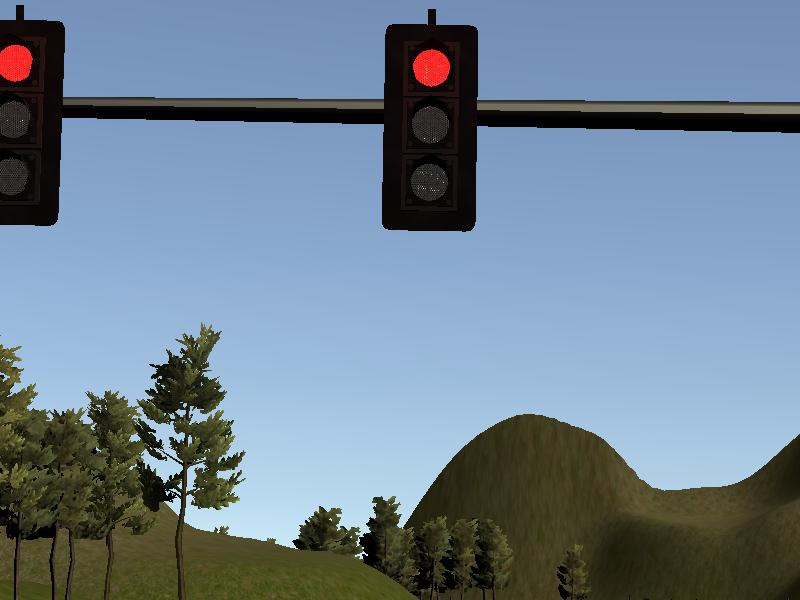red_light: (384, 28, 477, 233), (1, 18, 62, 228)
